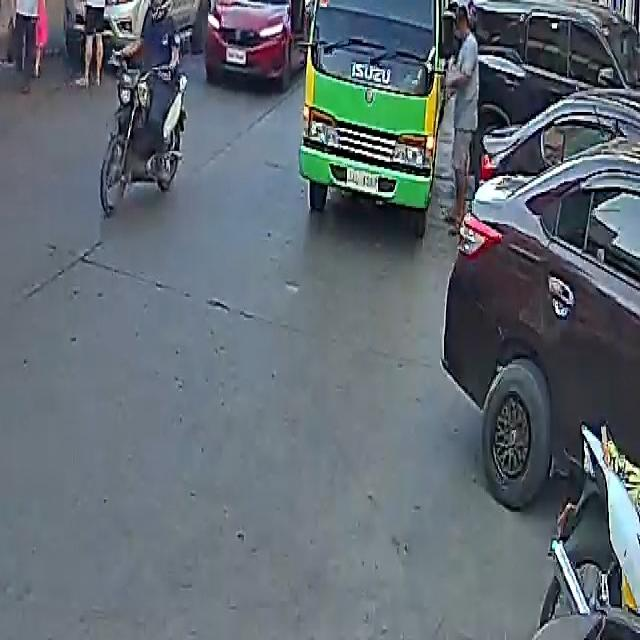car: (444, 82, 640, 523), (476, 0, 640, 132), (203, 0, 305, 87), (100, 0, 218, 46)
